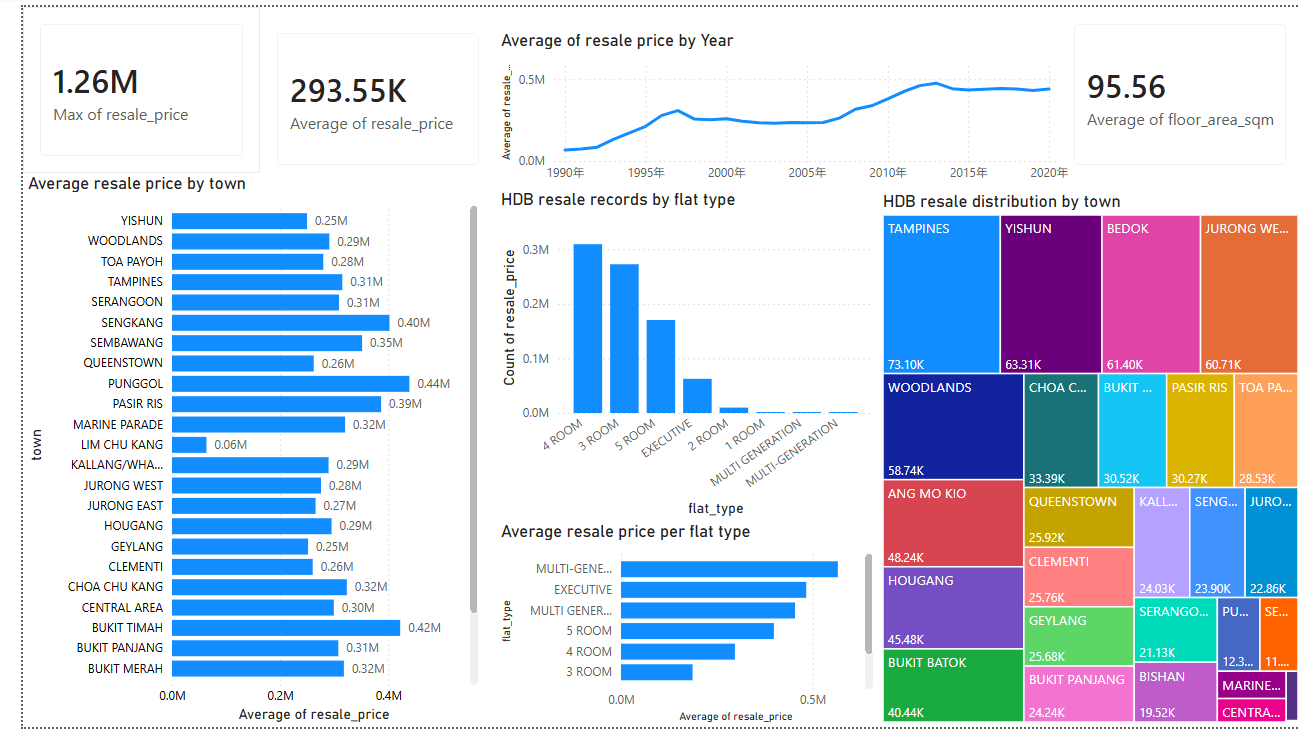

Layout of this report page (visuals, bound fields, positions):
{"tool":"powerbi","page":{"name":"Page 2","canvas":[1280,720],"ordinal":0},"visuals":[{"type":"cardVisual","fields":{"Data":["Max(public hdb_resale_clean.resale_price)"]},"box":[0,0,237,166],"z":0},{"type":"cardVisual","fields":{"Data":["Avg(public hdb_resale_clean.resale_price)"]},"box":[237,9,236,166],"z":1000},{"type":"cardVisual","fields":{"Data":["Avg(public hdb_resale_clean.floor_area_sqm)"]},"box":[1034,0,246,175],"z":2000},{"type":"lineChart","title":"Average of resale price over time","fields":{"Category":["public hdb_resale_clean.month.Variation.Date Hierarchy.Year","public hdb_resale_clean.month.Variation.Date Hierarchy.Quarter","public hdb_resale_clean.month.Variation.Date Hierarchy.Month","public hdb_resale_clean.month.Variation.Date Hierarchy.Day"],"Y":["Avg(public hdb_resale_clean.resale_price)"]},"box":[473,23,577,161],"z":3000},{"type":"barChart","title":"Average resale price by town","fields":{"Category":["public hdb_resale_clean.town"],"Y":["Avg(public hdb_resale_clean.resale_price)"]},"box":[0,166,460,554],"z":4000},{"type":"lineClusteredColumnComboChart","title":"HDB resale records by flat type","fields":{"Category":["public hdb_resale_clean.flat_type"],"Y":["CountNonNull(public hdb_resale_clean.resale_price)"]},"box":[473,182,382,332],"z":5000},{"type":"treemap","title":"HDB resale distribution by town","fields":{"Values":["CountNonNull(public hdb_resale_clean.flat_type)"],"Group":["public hdb_resale_clean.town"]},"box":[855,184,425,536],"z":6000},{"type":"barChart","title":"Average resale price per flat type","fields":{"Category":["public hdb_resale_clean.flat_type"],"Y":["Avg(public hdb_resale_clean.resale_price)"]},"box":[473,514,382,206],"z":8000}]}

Visuals, with their boxes in screenshot pixels (x1, y1, x2, y2), scaled from the page's 1280x720 canvas onto the 1300x750 screenshot:
cardVisual - Max(public hdb_resale_clean.resale_price): bbox(0, 0, 241, 173)
cardVisual - Avg(public hdb_resale_clean.resale_price): bbox(241, 9, 480, 182)
cardVisual - Avg(public hdb_resale_clean.floor_area_sqm): bbox(1050, 0, 1299, 182)
"Average of resale price over time" lineChart: bbox(480, 24, 1066, 192)
"Average resale price by town" barChart: bbox(0, 173, 467, 749)
"HDB resale records by flat type" lineClusteredColumnComboChart: bbox(480, 190, 868, 535)
"HDB resale distribution by town" treemap: bbox(868, 192, 1299, 749)
"Average resale price per flat type" barChart: bbox(480, 535, 868, 749)
